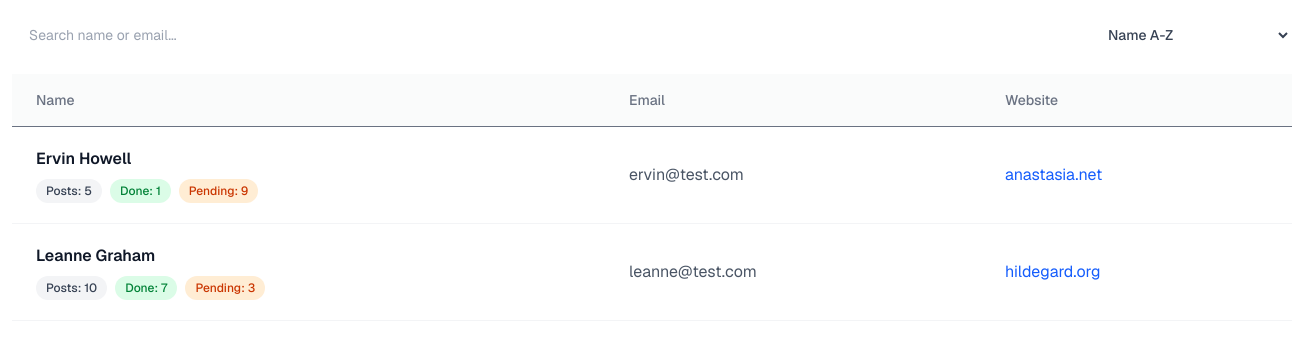
Test case: UsersTable › shows empty state
Type "zzzzzzz" into the field with placeholder "Search name or email..." at (204, 35), box left=12, top=12, right=396, bottom=58
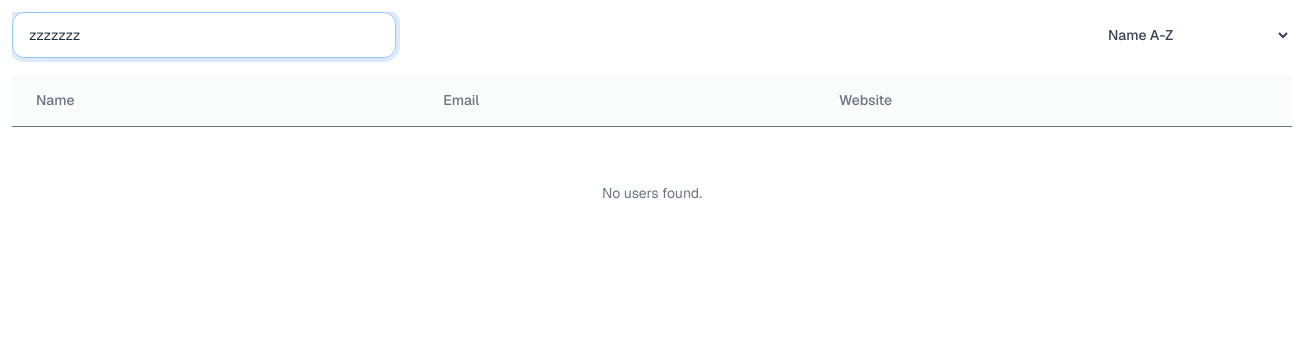
Expected: the text "No users found." is shown, left=12, top=126, right=1292, bottom=259
